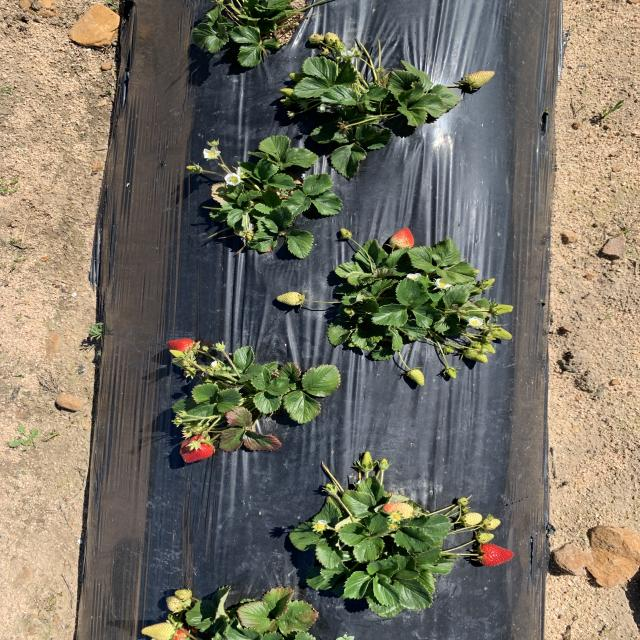unripe: (474, 542, 515, 568), (179, 434, 213, 463), (388, 226, 419, 248), (166, 338, 198, 355)
